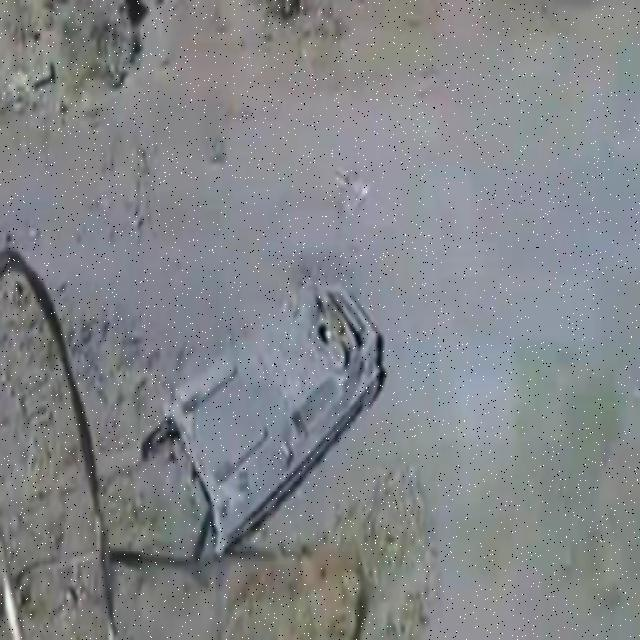APC-IFV: (140, 264, 391, 568)
